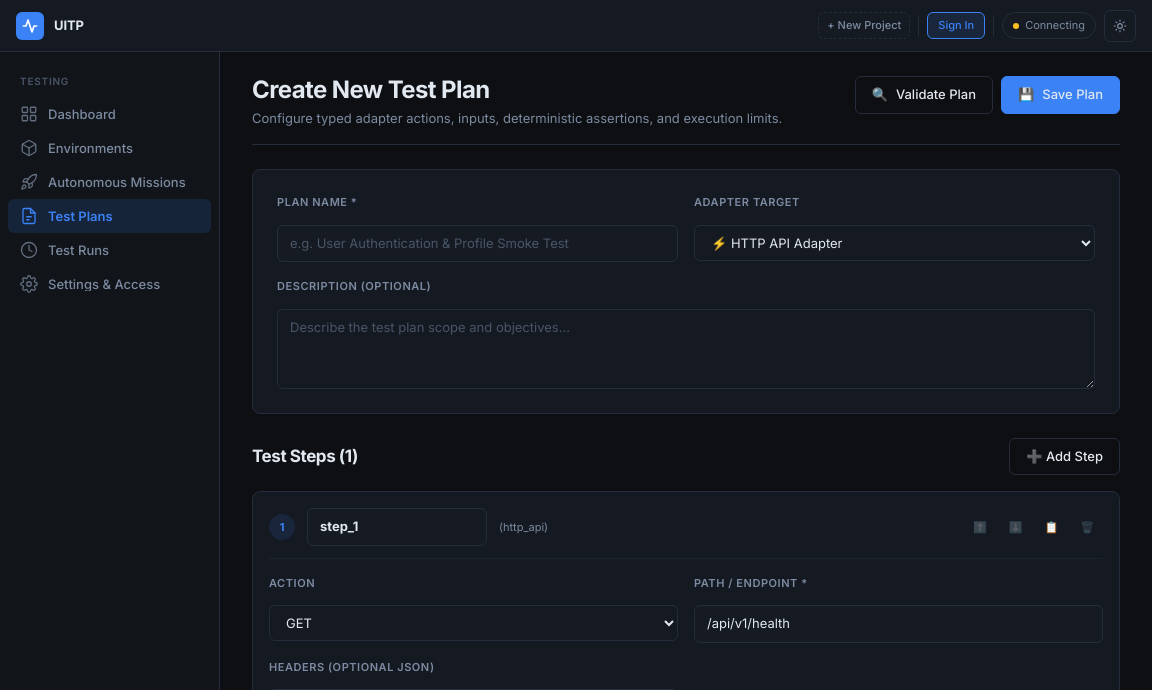
Scenario: PlanEditor Page › allows adding a new step
This screenshot has width=1152, height=690.
Step 1. Click the button "➕ Add Step" → (1065, 457), box left=1009, top=438, right=1120, bottom=475
(page scrolled)
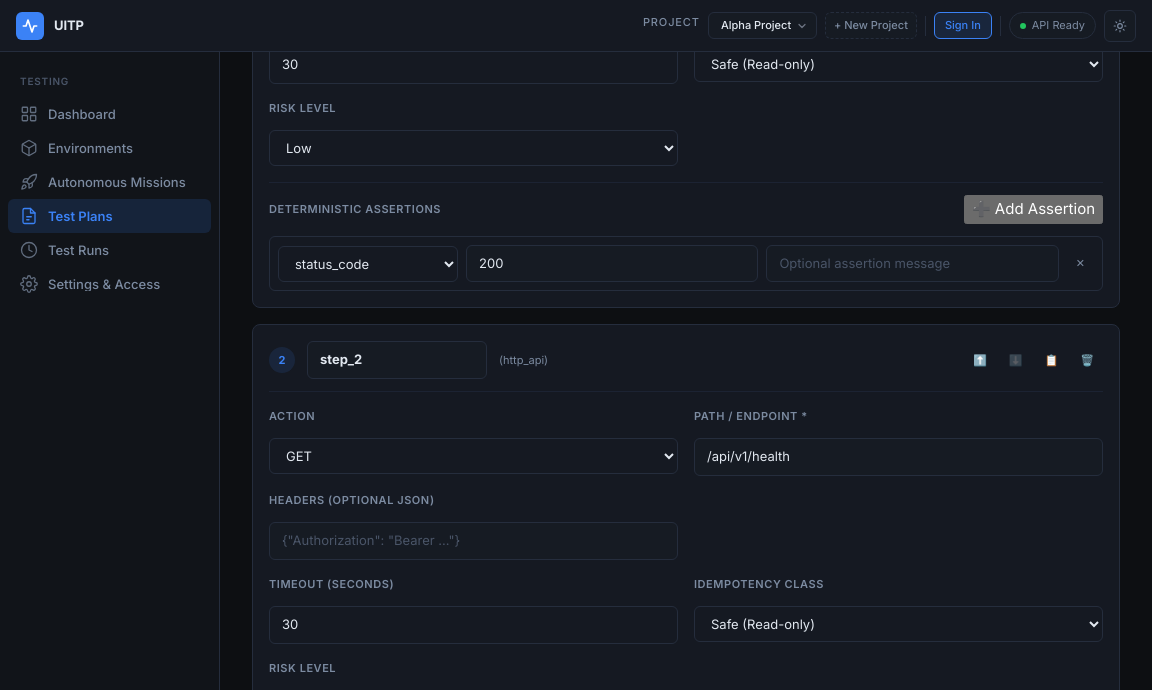
Result: the 2nd field showing "step_2" is shown at left=307, top=341, right=487, bottom=379
